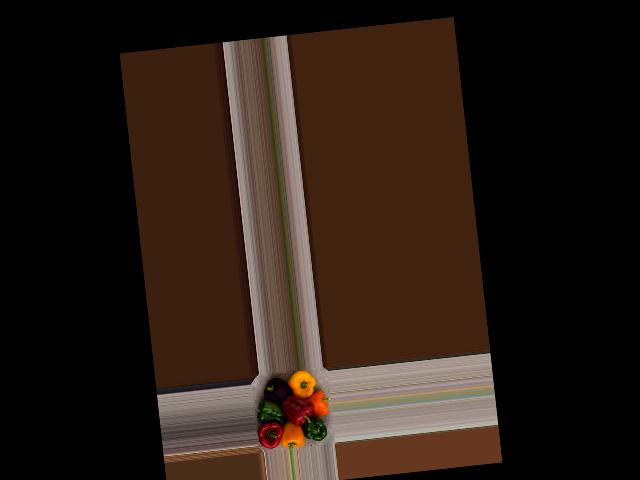bell_pepper: (255, 377, 293, 410)
